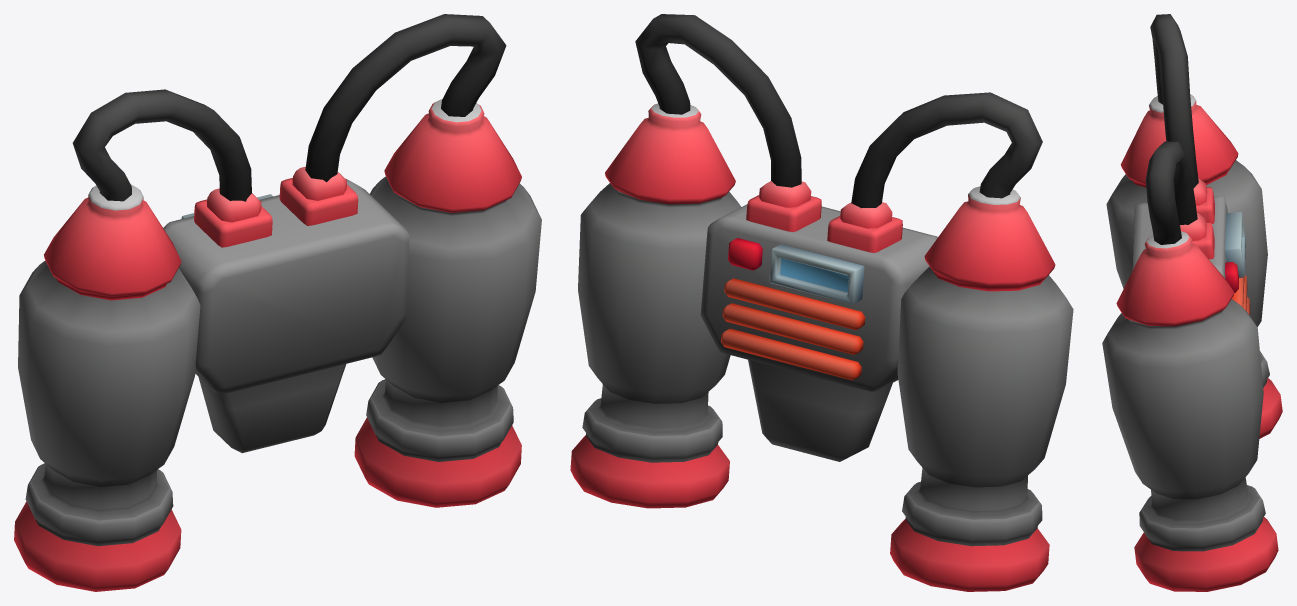
The model's file is JetPack.fbx.
The picture shows the model from 3 angles, left to right: view 1: azimuth 30°, elevation 25°; view 2: azimuth 150°, elevation 25°; view 3: azimuth 270°, elevation 25°; orthographic projection. The views are drawn at different scales.
Visible parts, largest first — view 1: Cube.035; view 2: Cube.035; view 3: Cube.035.
Boxes of the visible parts, x1,y1,x2,y2 form: Cube.035: (14, 14, 541, 591); Cube.035: (570, 14, 1073, 591); Cube.035: (1102, 14, 1282, 591).
Size of the model in its own units: 157 by 148 by 57.8.
